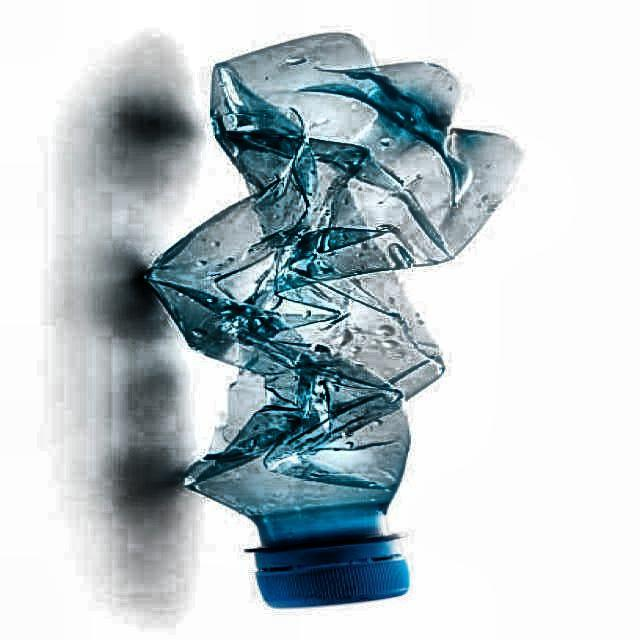plastic: (140, 33, 519, 606)
